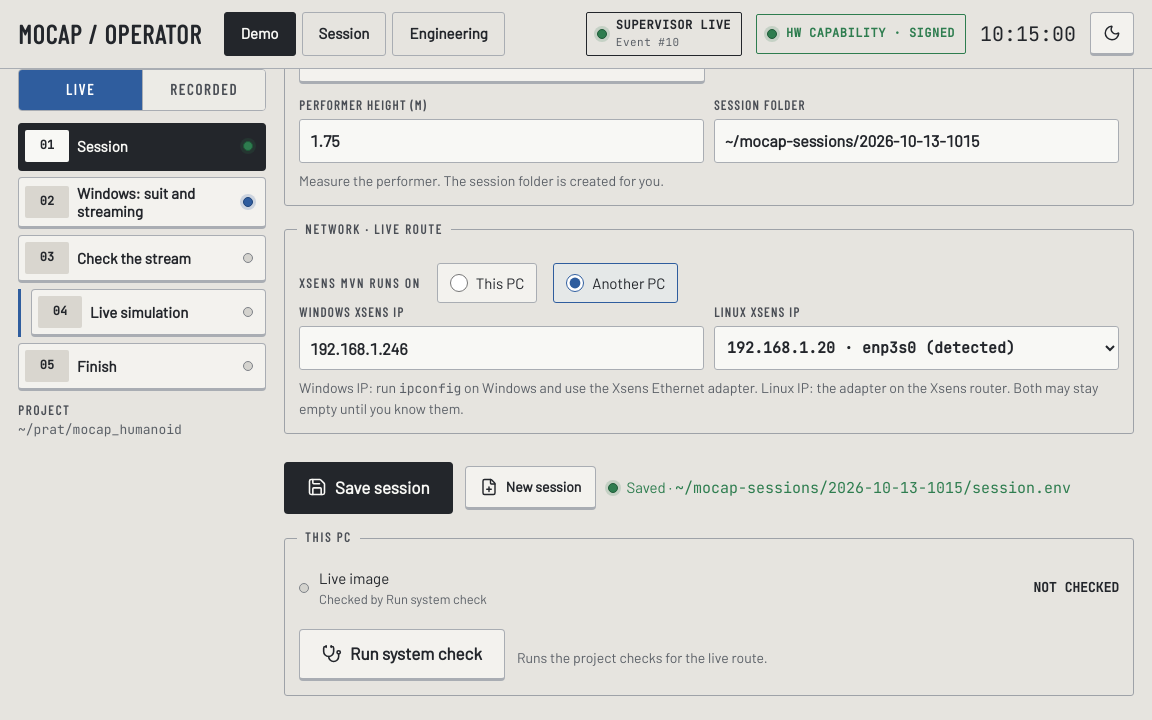
Test: Setup jobs › shows a rejected start beside the button
(page scrolled)
Click the button "Run system check".
click(402, 655)  # box [299, 629, 505, 681]
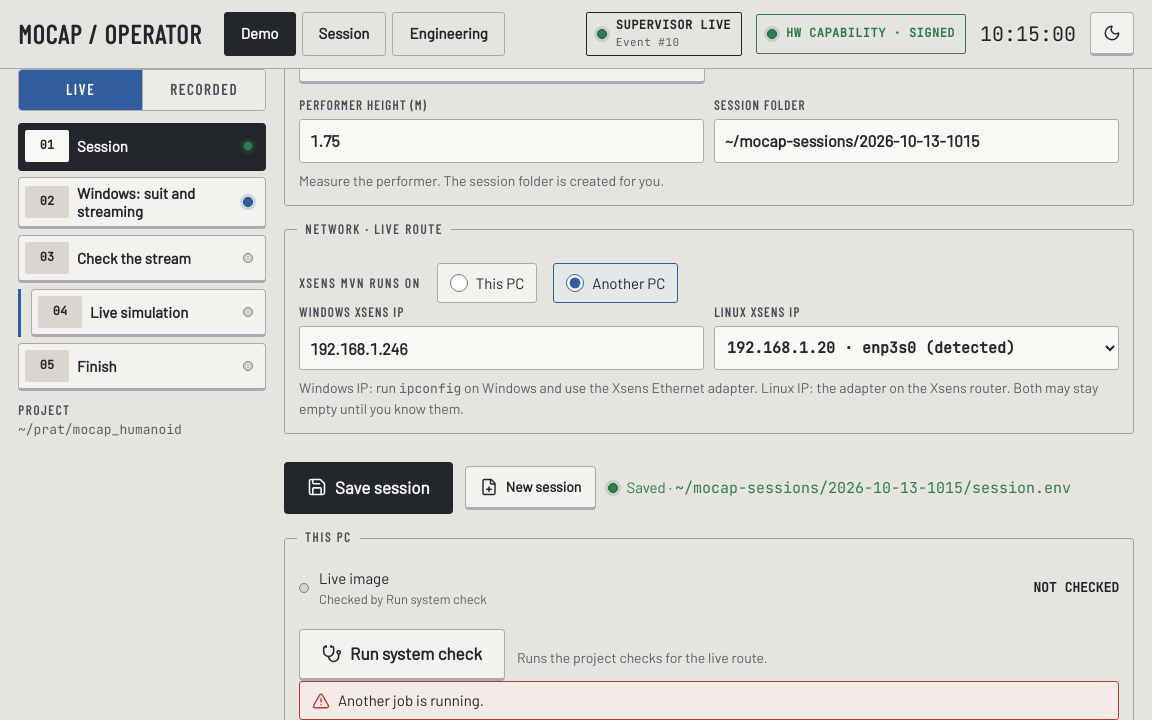
Expected: the message reads "Another job is running.", [338, 691, 484, 709]
